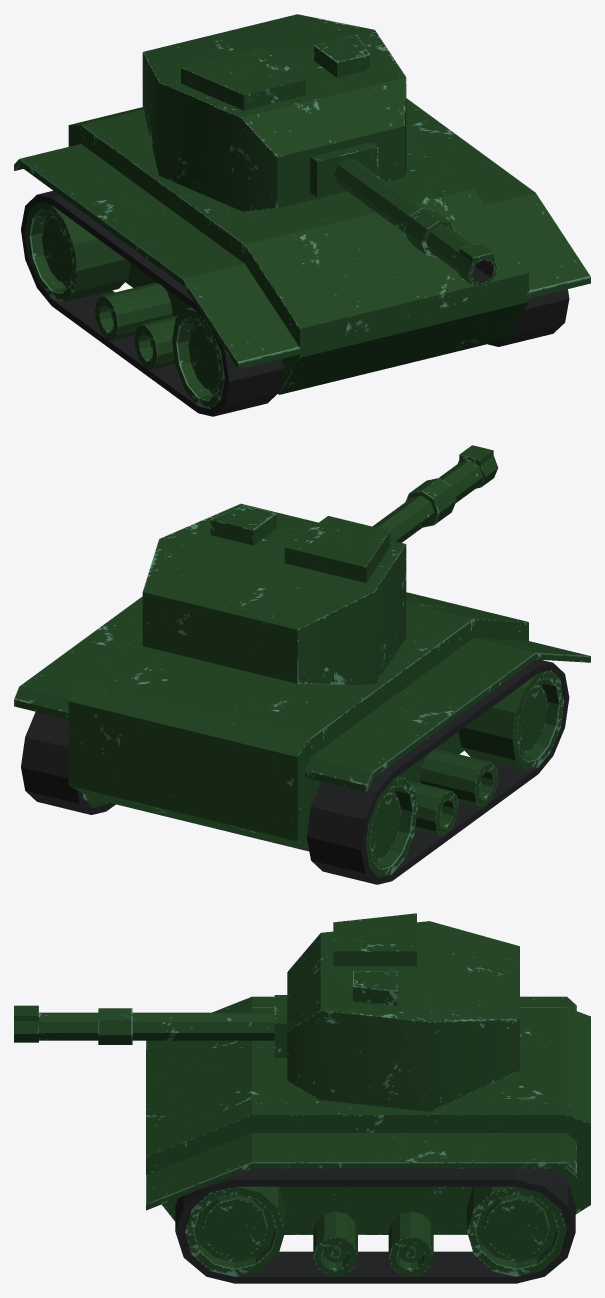
File: tankv001.gltf
3 renders of one model, top to bottom at view 1: azimuth 30°, elevation 25°; view 2: azimuth 150°, elevation 25°; view 3: azimuth 270°, elevation 25°, orthographic. The views are drawn at different scales.
Visible parts, largest first — view 1: tank_body_mesh, tank_tower_mesh, tank_border_mesh, tank_wheels_mesh, tank_track_mesh; view 2: tank_body_mesh, tank_tower_mesh, tank_border_mesh, tank_track_mesh, tank_wheels_mesh; view 3: tank_tower_mesh, tank_body_mesh, tank_wheels_mesh, tank_border_mesh, tank_track_mesh.
Part boxes in pixels (x1,y1,x2,y2): tank_body_mesh: (68,107,528,394); tank_tower_mesh: (142,14,498,287); tank_border_mesh: (14,98,590,369); tank_wheels_mesh: (25,202,224,409); tank_track_mesh: (21,190,569,416); tank_body_mesh: (68,592,528,851); tank_tower_mesh: (142,445,498,685); tank_border_mesh: (14,596,590,792); tank_track_mesh: (21,659,569,884); tank_wheels_mesh: (82,670,564,877); tank_tower_mesh: (14,913,519,1111); tank_body_mesh: (146,1007,590,1234); tank_wheels_mesh: (185,1186,566,1276); tank_border_mesh: (146,996,576,1210); tank_track_mesh: (175,1168,575,1283).
Size of the model in its own units: 1.25 by 0.8707 by 1.84.
Materials: 5 (5 with a texture image).
